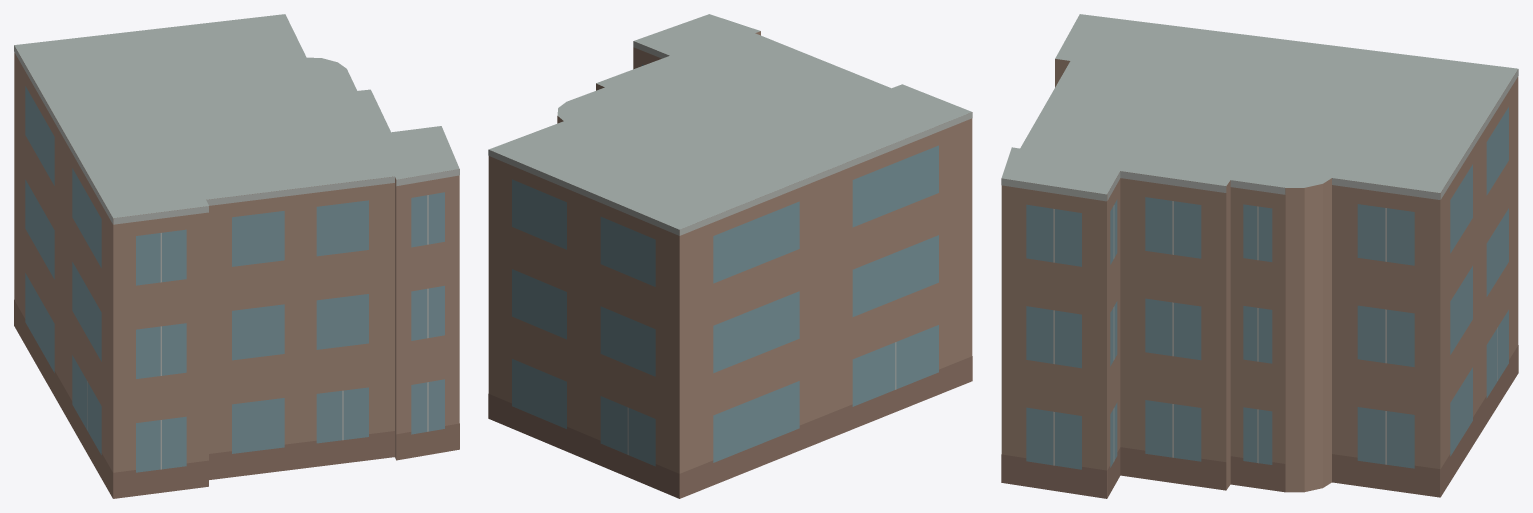
File: survey-upis-32498826.glb
3 views of the same model, side by side, from view 1: azimuth 30°, elevation 25°; view 2: azimuth 150°, elevation 25°; view 3: azimuth 270°, elevation 25° (orthographic). The views are drawn at different scales.
Parts seen in each view (by area): view 1: survey-upis-32498826.tmp; view 2: survey-upis-32498826.tmp; view 3: survey-upis-32498826.tmp.
Boxes of the visible parts, left/top/right/bottom form: survey-upis-32498826.tmp: left=14, top=14, right=459, bottom=498; survey-upis-32498826.tmp: left=488, top=14, right=972, bottom=498; survey-upis-32498826.tmp: left=1001, top=14, right=1518, bottom=498.
Size of the model in its own units: 13.49 by 10.6 by 16.33.
